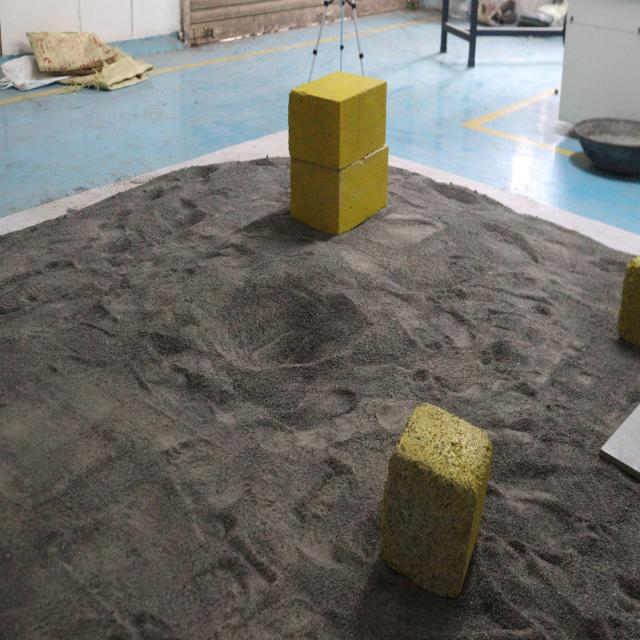box: (384, 394, 486, 593), (286, 77, 392, 233)
crater: (206, 261, 369, 382)
